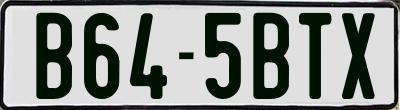4: (129, 12, 171, 99)
5: (205, 10, 243, 98)
6: (83, 12, 122, 99)
B: (34, 11, 76, 101), (253, 11, 294, 98)
T: (296, 12, 334, 101)
X: (341, 10, 380, 101)
